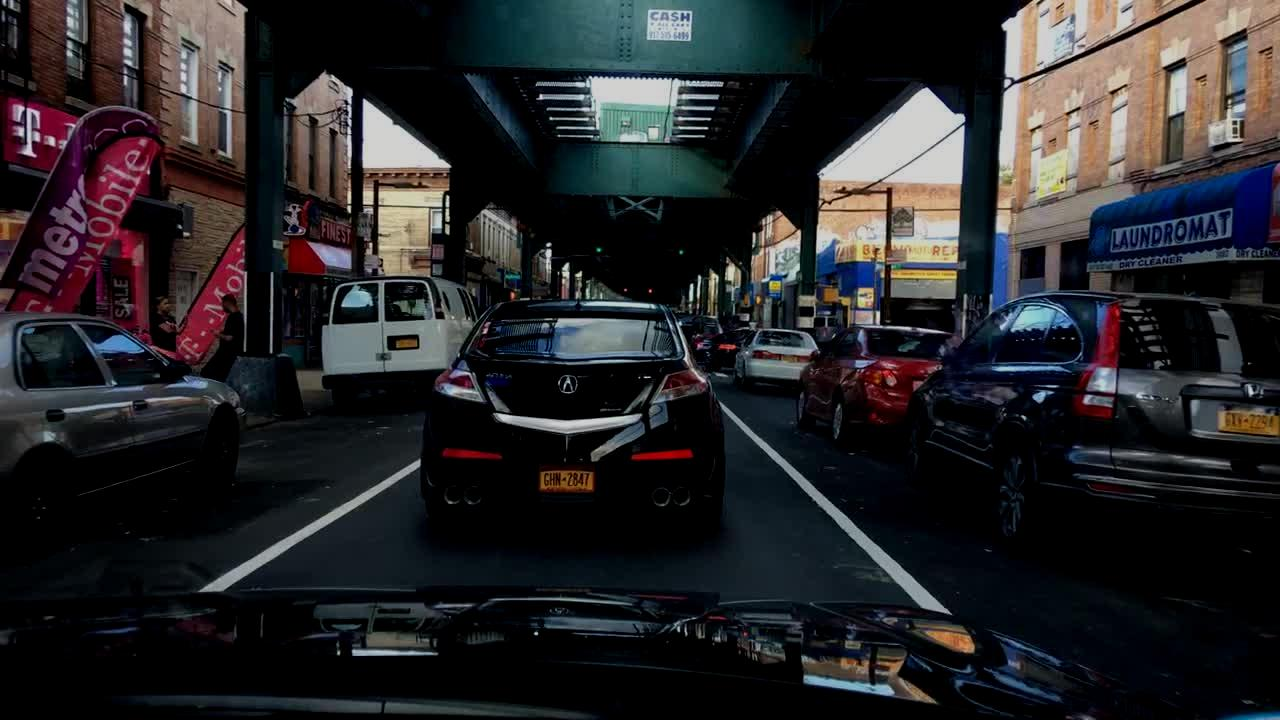Honda: (1240, 377, 1267, 406)
acura: (553, 368, 581, 398)
